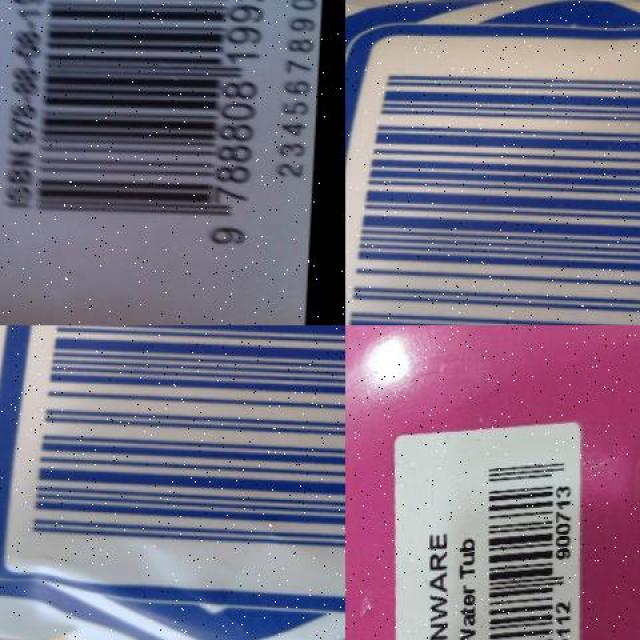Barcode: (13, 325, 346, 591), (345, 34, 640, 326), (0, 0, 288, 251), (470, 434, 589, 640)
